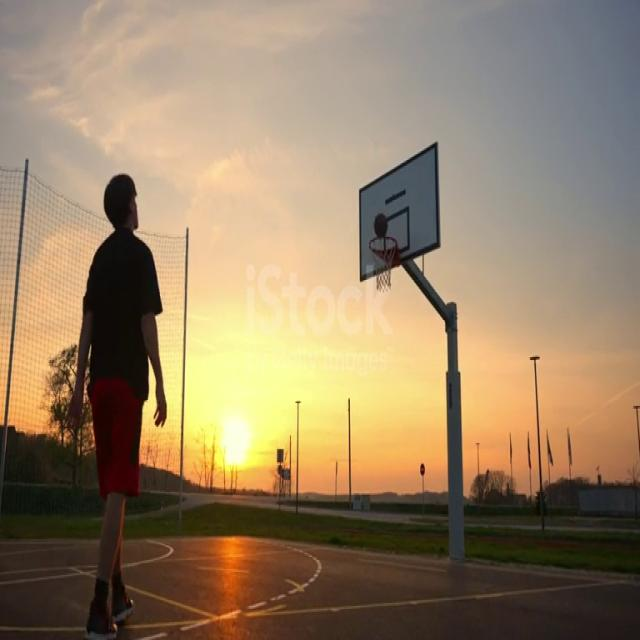ball: (374, 213, 388, 240)
